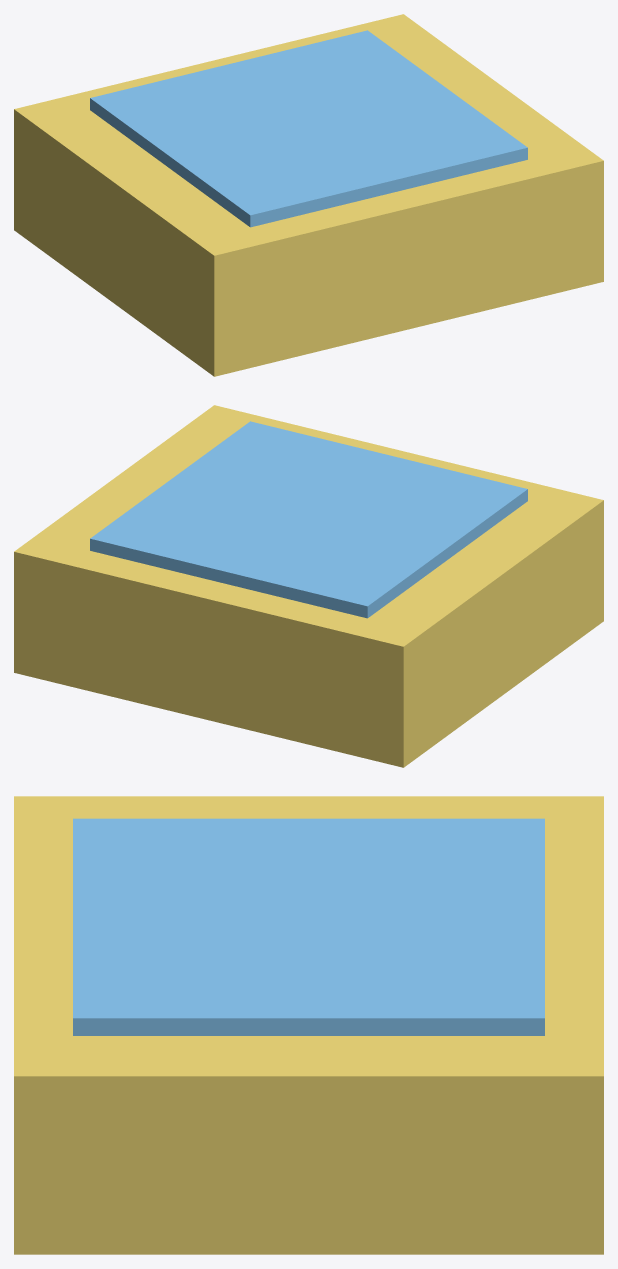
The model's file is Prop_Pet_AMF_Bowl_V13.glb.
3 renders of one model, top to bottom at view 1: azimuth 30°, elevation 25°; view 2: azimuth 150°, elevation 25°; view 3: azimuth 270°, elevation 25°, orthographic. The views are drawn at different scales.
Visible parts, largest first — view 1: Prop_Pet_AMF_Bowl_V13; view 2: Prop_Pet_AMF_Bowl_V13; view 3: Prop_Pet_AMF_Bowl_V13.
Part boxes in pixels (x1,y1,x2,y2): Prop_Pet_AMF_Bowl_V13: [14, 14, 603, 376]; Prop_Pet_AMF_Bowl_V13: [14, 405, 603, 767]; Prop_Pet_AMF_Bowl_V13: [14, 796, 603, 1254].
Bounding box in the file's own units: 0.3369 × 0.11 × 0.3.
